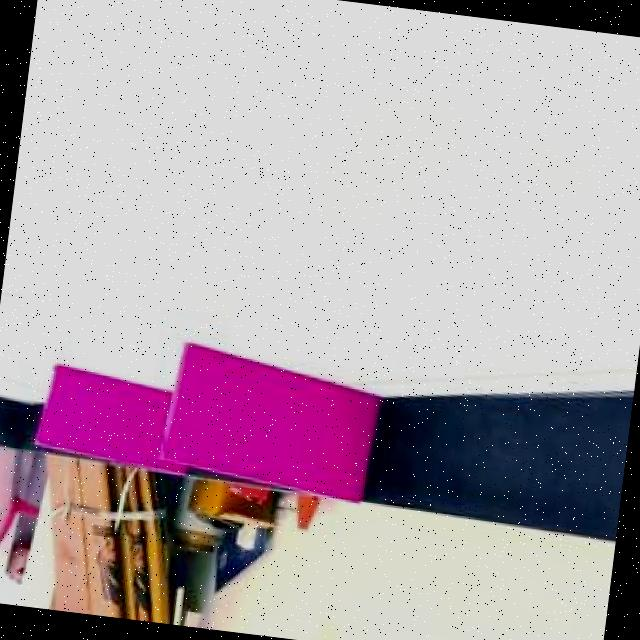xparking: (164, 349, 374, 485), (37, 362, 167, 464)
